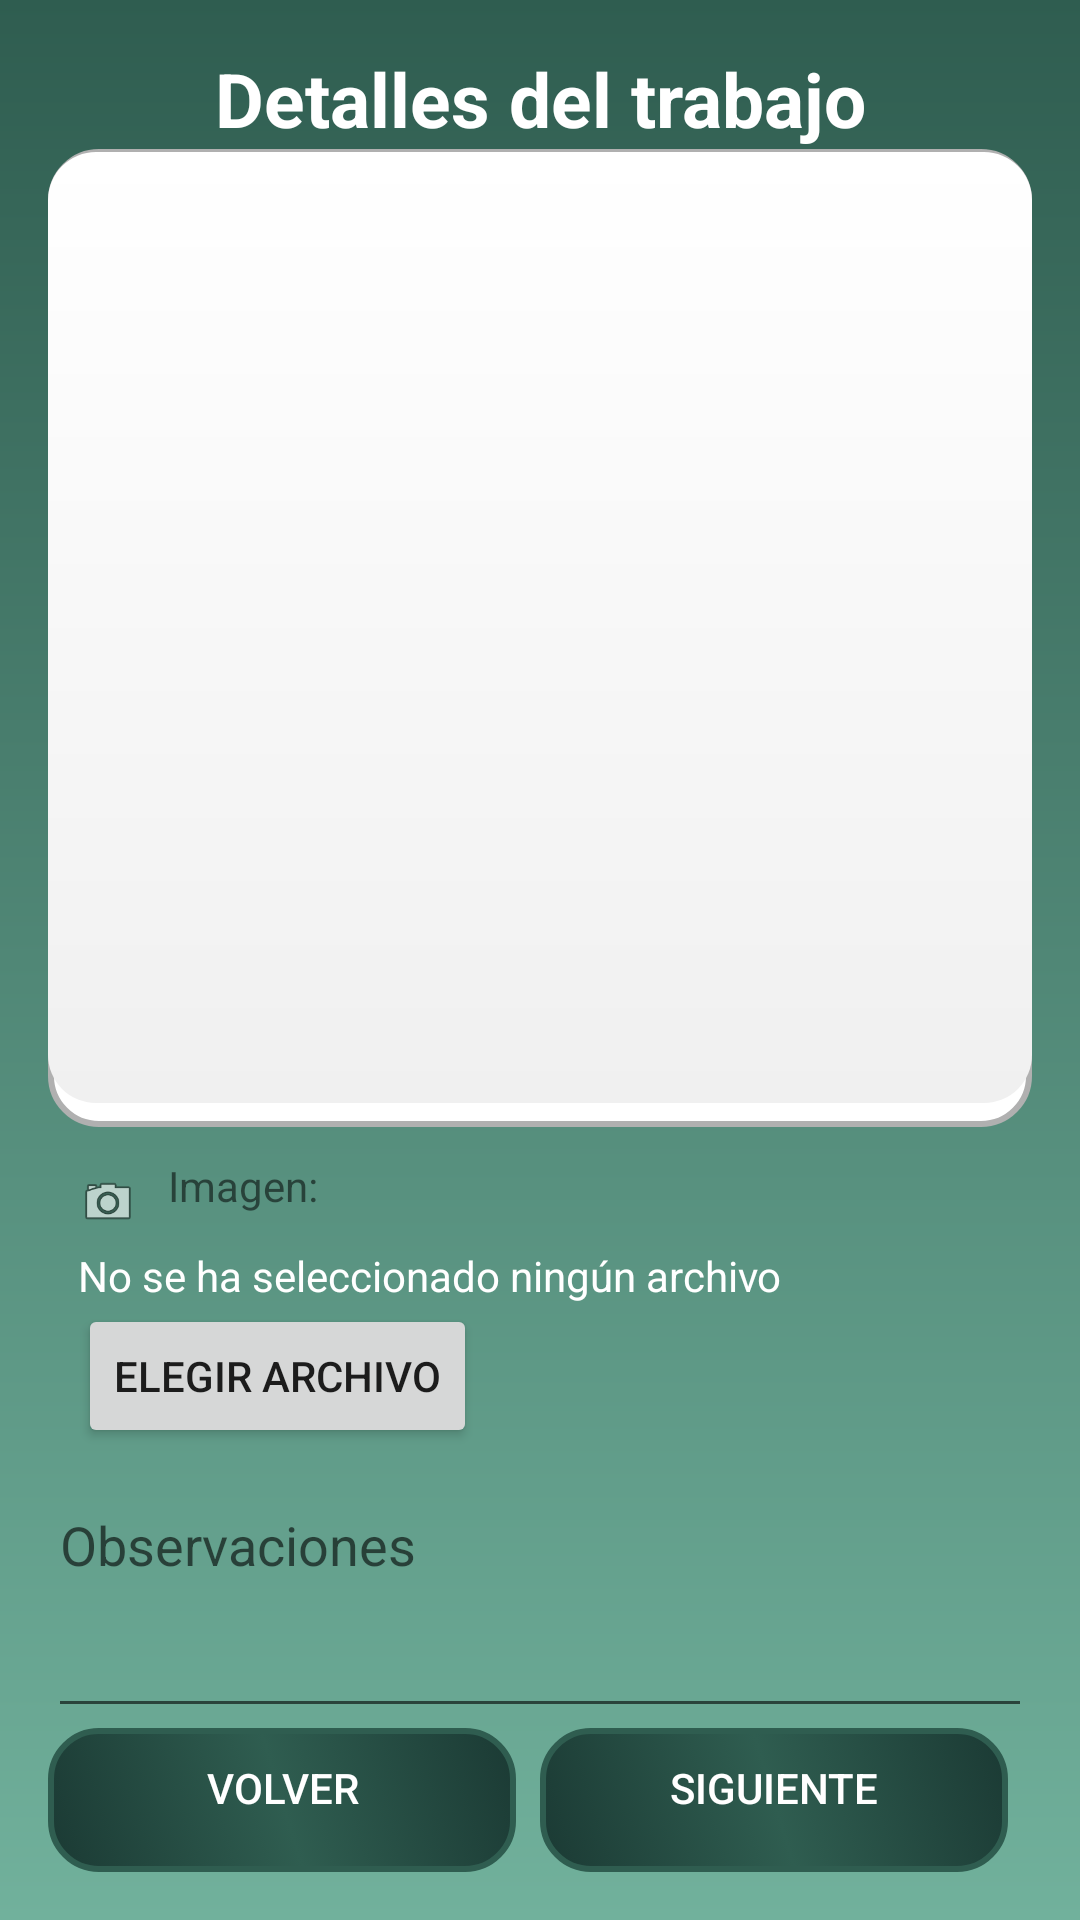

Named icons in this screenshot (1080x1920) and their bounding boxes, [left=x1, top=y1, right=x2, bottom=y2]:
camera: [left=85, top=1183, right=131, bottom=1219]
